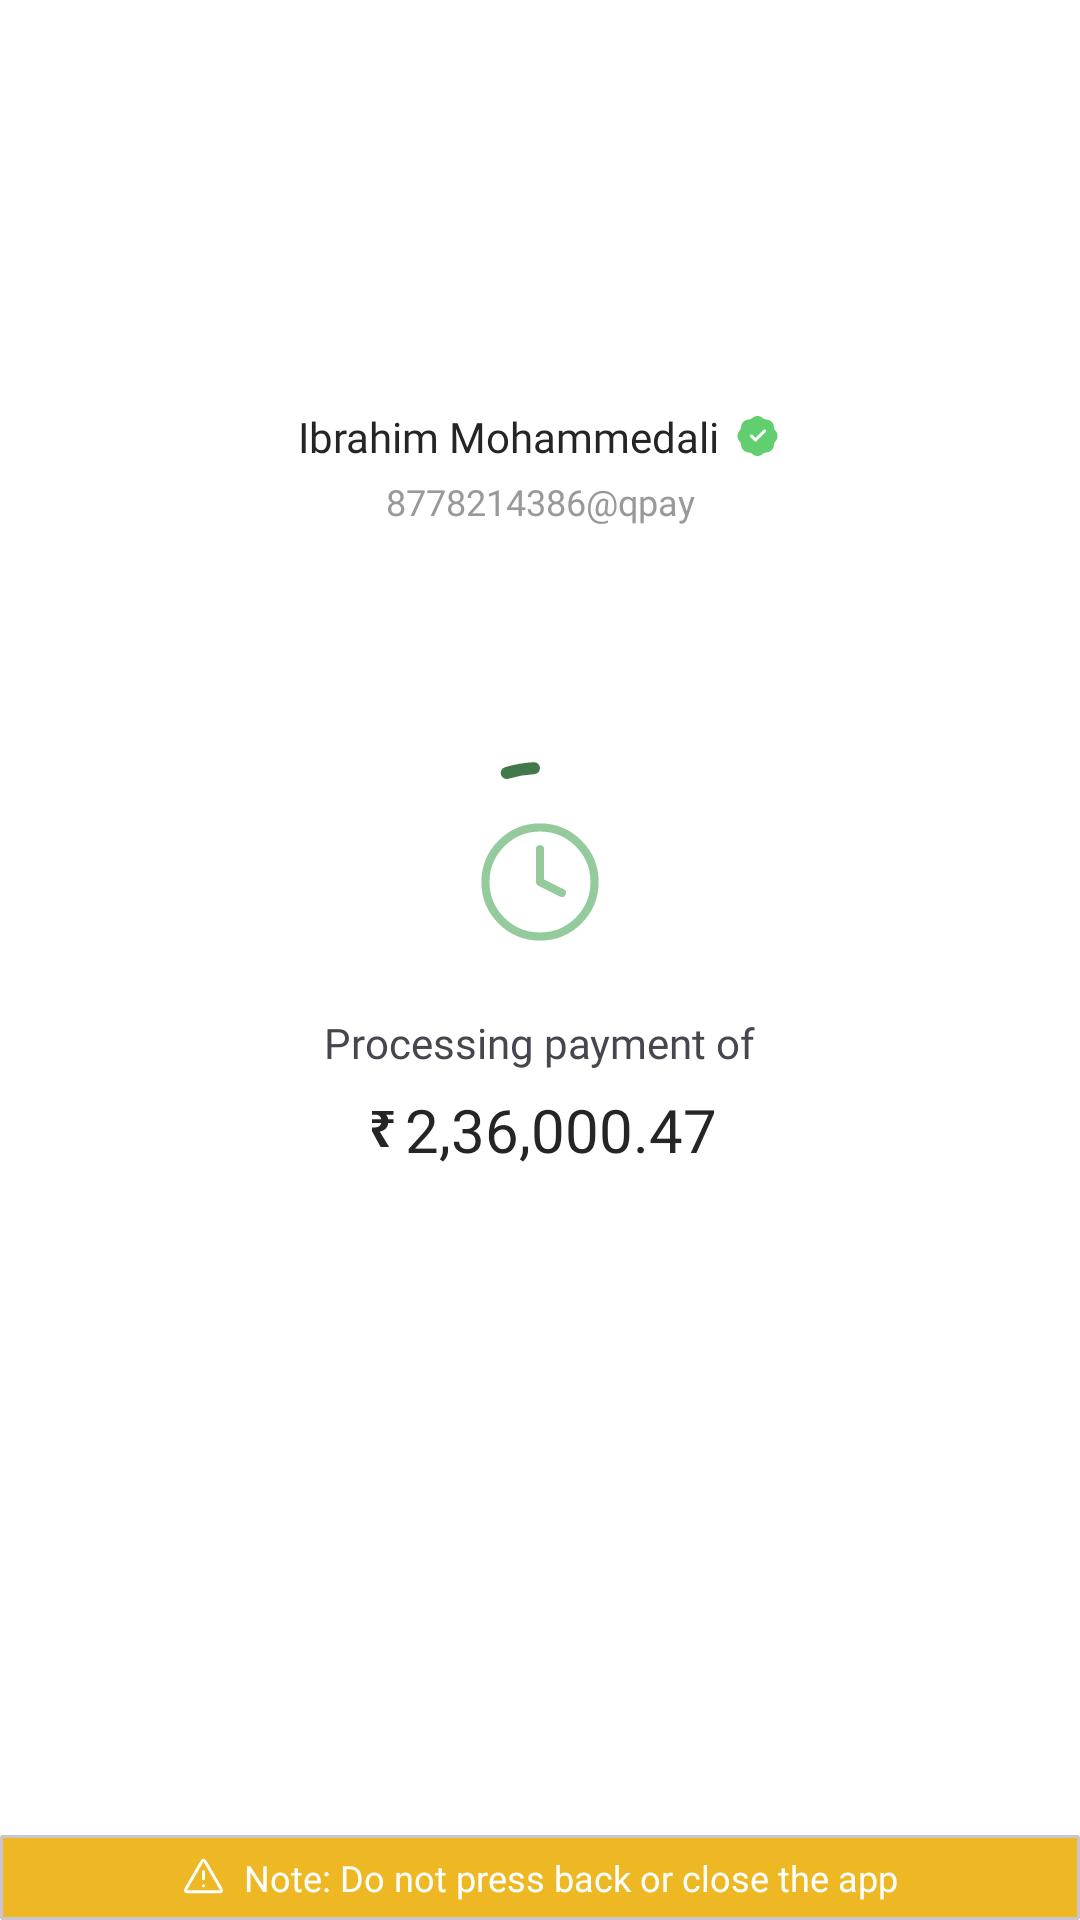

Icon bounding boxes for this 1080px x 1920px phone screenshot, format (x1, y1, x2, y2):
history: (481, 823, 599, 941)
